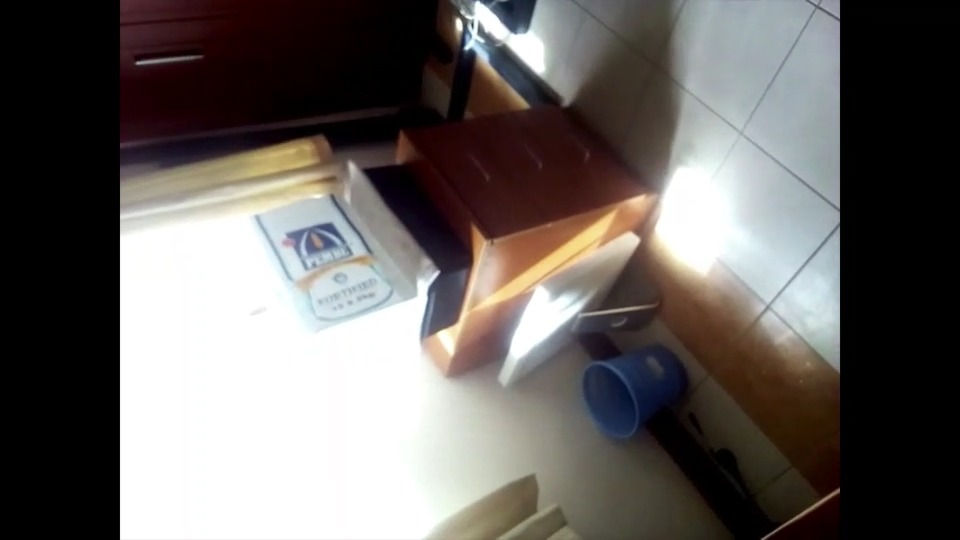wheat_flour_blue_label: (256, 193, 399, 359)
